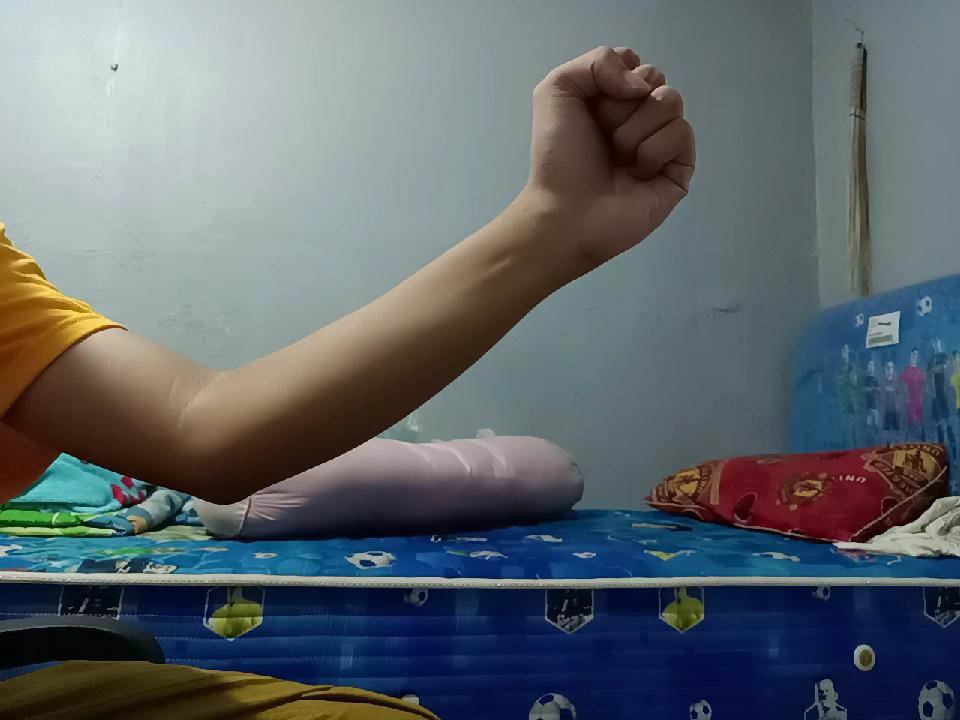rock: (524, 29, 708, 275)
